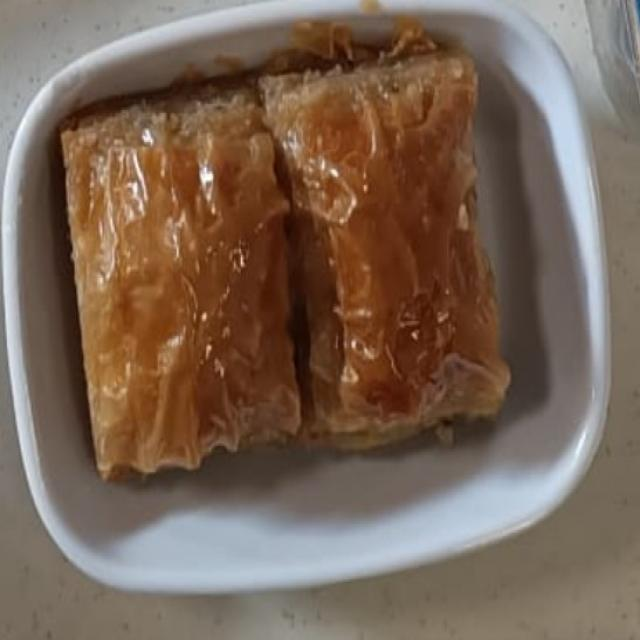yan_yemek: (56, 12, 514, 483)
